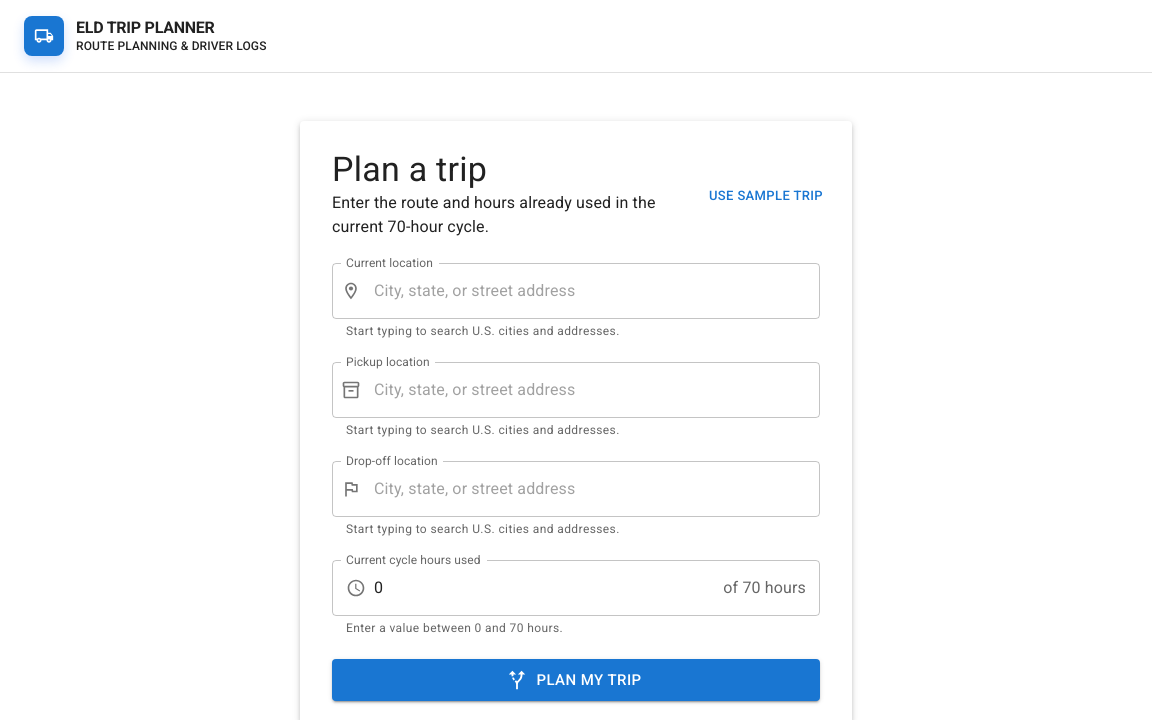
Scenario: trip planner › shows backend field guidance without clearing the entered route
This screenshot has width=1152, height=720.
Click the button "Use sample trip" at (766, 196), box x1=704 y1=181 x2=828 y2=211
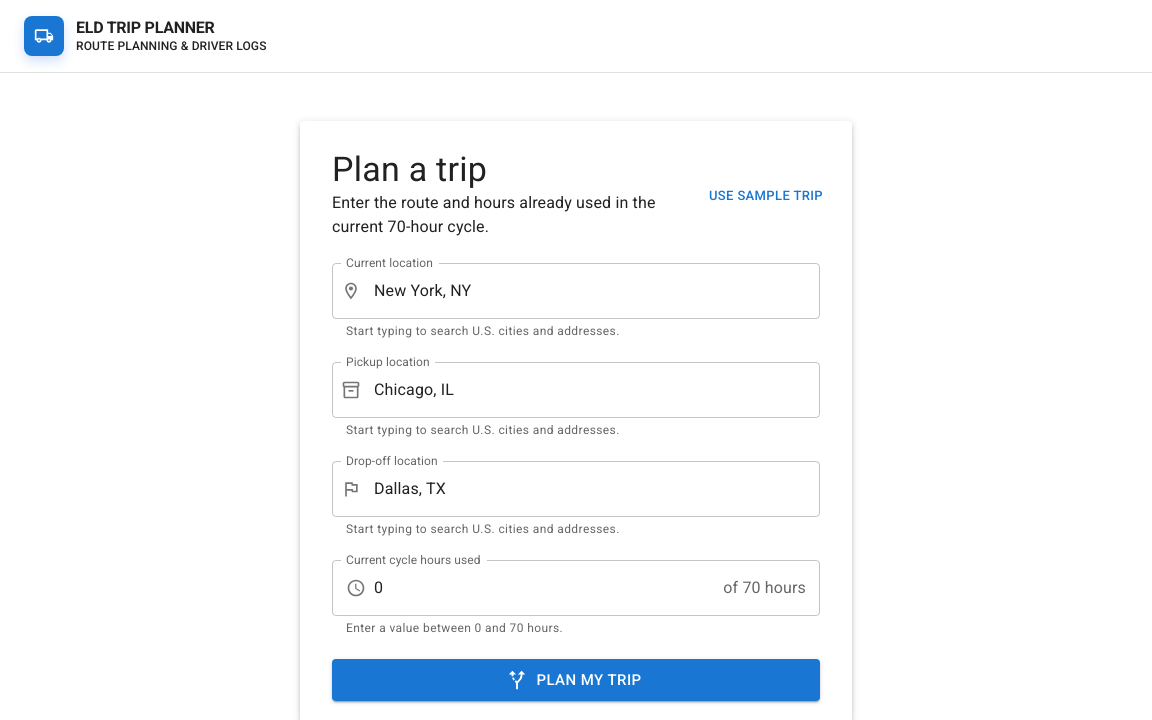
Click the button "Plan my trip" at (576, 680), box x1=332 y1=659 x2=820 y2=701
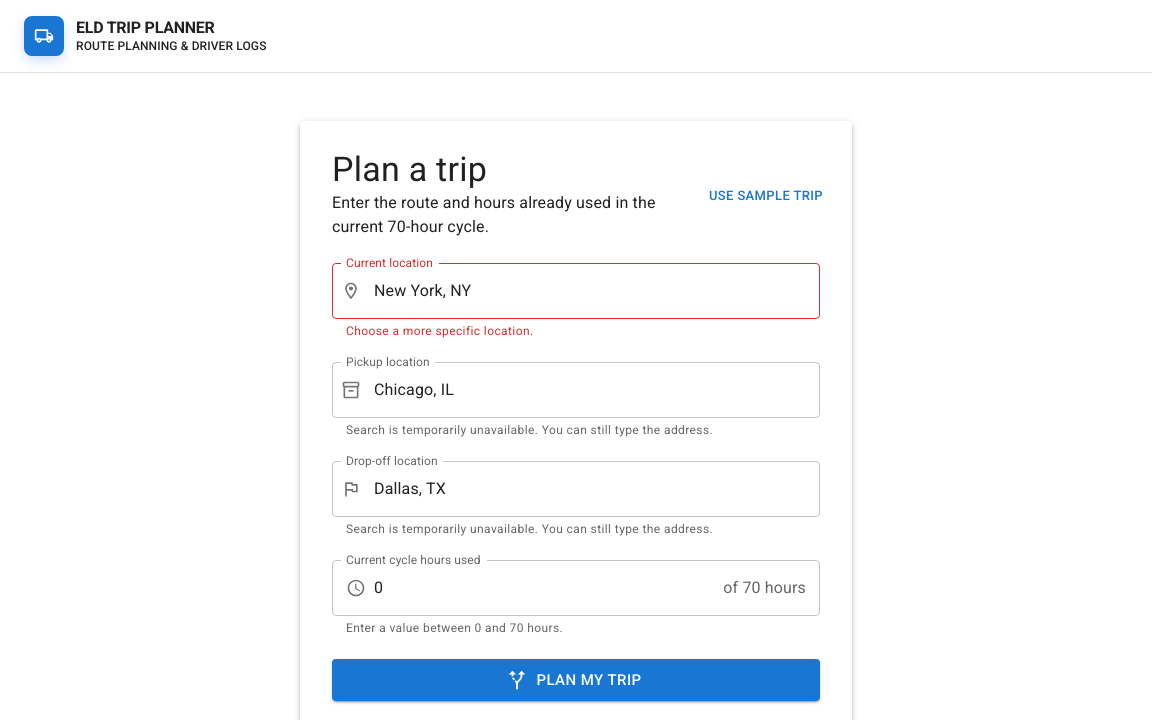
Expected: the dropdown labelled "Current location" holds "New York, NY", x1=369 y1=272 x2=781 y2=310
Result: the text "Choose a more specific location." is shown at x1=346 y1=324 x2=534 y2=338
